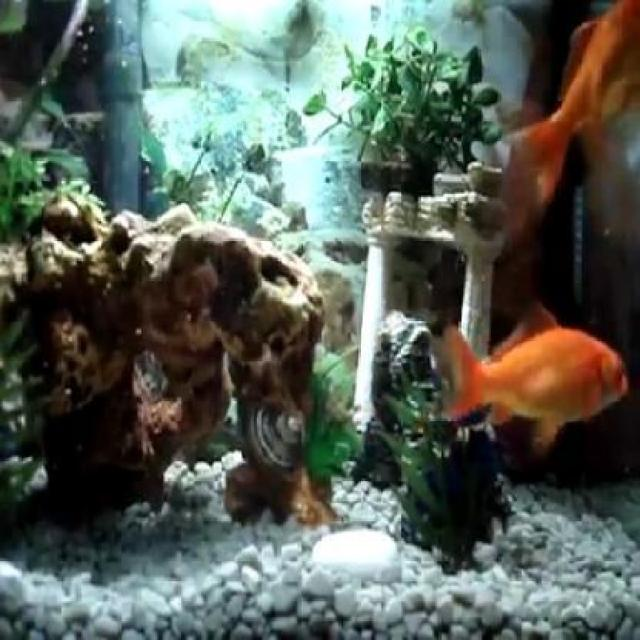GoldFish: (437, 304, 632, 450), (506, 1, 640, 202)
